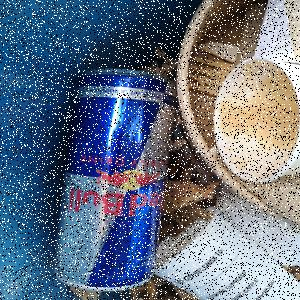Can: (54, 68, 178, 294)
Cup: (156, 205, 300, 300), (214, 55, 300, 187)
